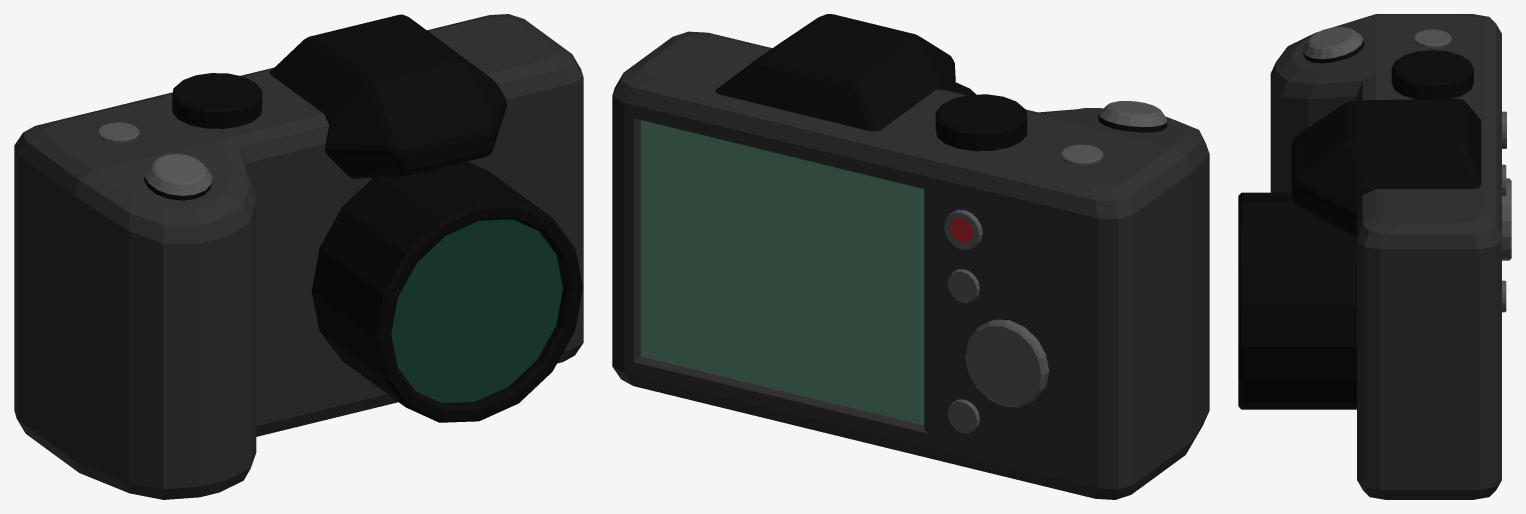
The model's file is Camera.fbx.
The picture shows the model from 3 angles, left to right: view 1: azimuth 30°, elevation 25°; view 2: azimuth 150°, elevation 25°; view 3: azimuth 270°, elevation 25°; orthographic projection. The views are drawn at different scales.
Visible parts, largest first — view 1: Base.001; view 2: Base.001; view 3: Base.001.
Boxes of the visible parts, x1,y1,x2,y2 form: Base.001: (14, 14, 583, 499); Base.001: (612, 14, 1209, 499); Base.001: (1238, 14, 1511, 499).
Size of the model in its own units: 16.49 by 10.53 by 8.46.
